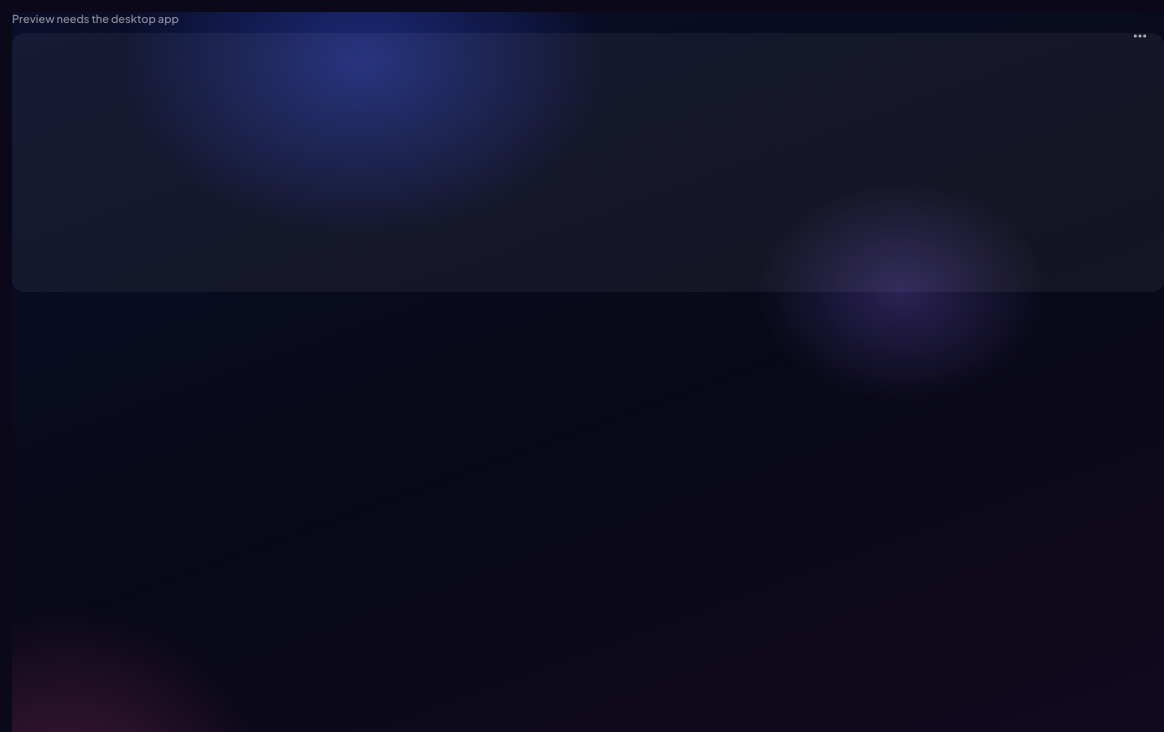
Test: WebViewWidget › following a guest navigation never reloads the guest
Right-click the element with test id "day-webview" at x=588, y=152, box [12,12,1163,292]
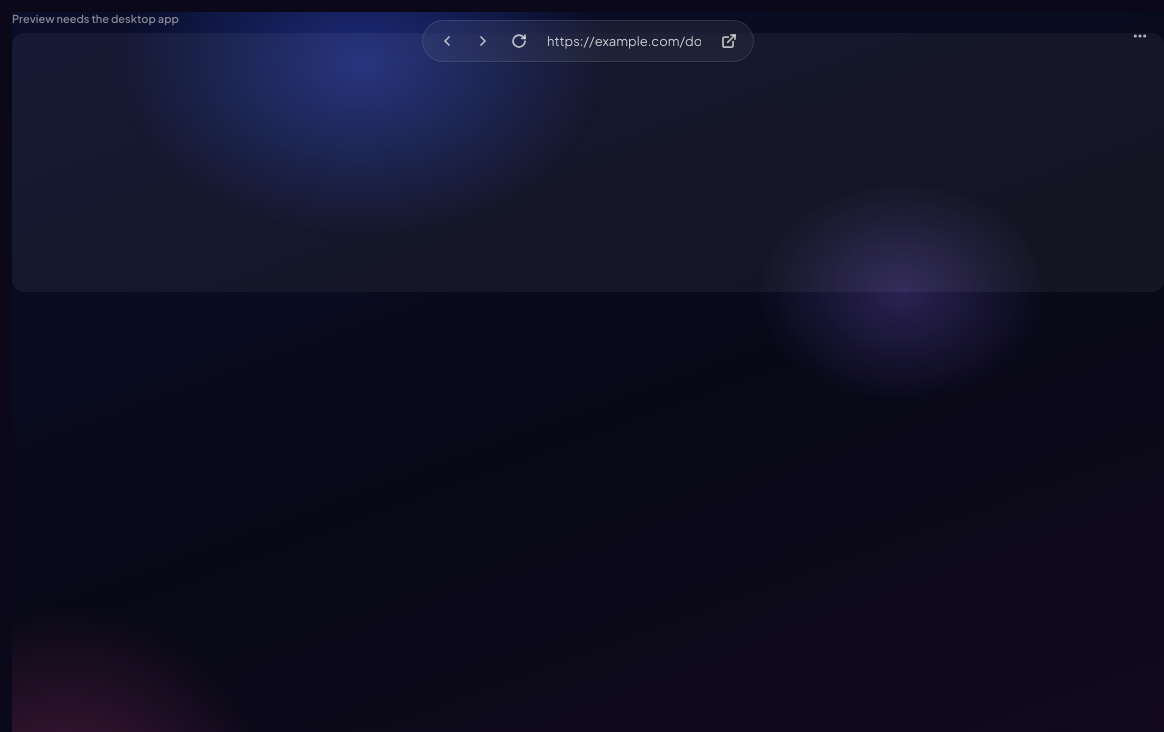
Result: the field named "Web address" holds "https://example.com/docs/page" at [539,29,709,53]
